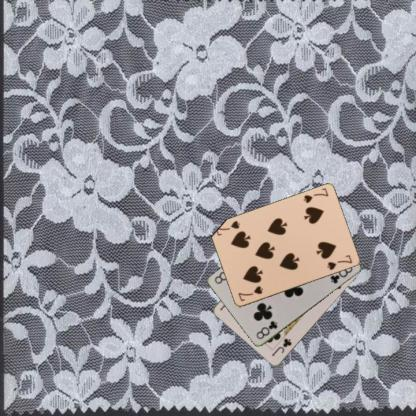7s: (236, 284, 264, 302), (301, 186, 329, 204)
8c: (254, 318, 279, 341)
Jc: (269, 336, 293, 358)
